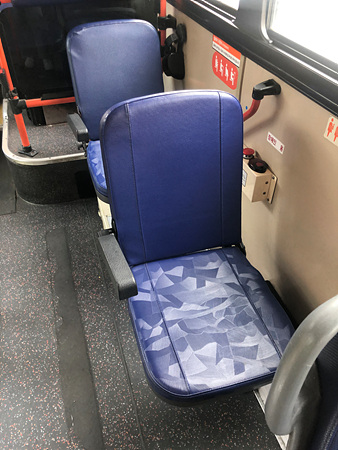seat: (105, 95, 292, 392)
